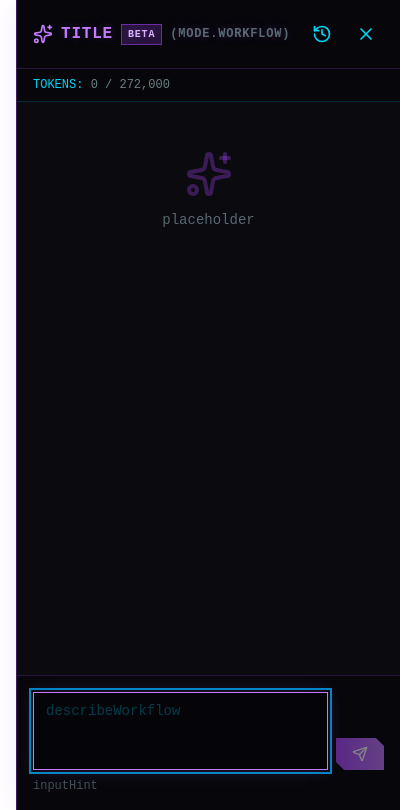
ChatSidebar - Session Switcher › should show active badge on current session
Open session selector
Click the button named "history": x=322, y=34 [304, 16, 340, 52]
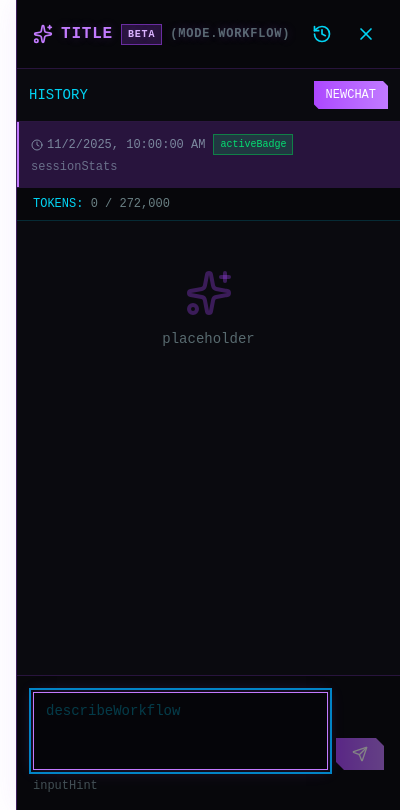
Expected: the text "activeBadge" is shown, [213, 134, 293, 155]
Expected: the text with test id "active-badge" reads "activeBadge", [220, 139, 286, 150]
